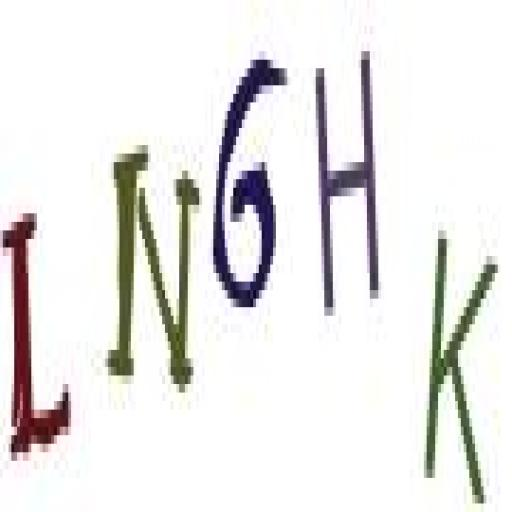6: (207, 28, 291, 344)
H: (310, 31, 384, 343)
K: (422, 204, 502, 508)
L: (1, 196, 78, 490)
N: (103, 120, 204, 420)
